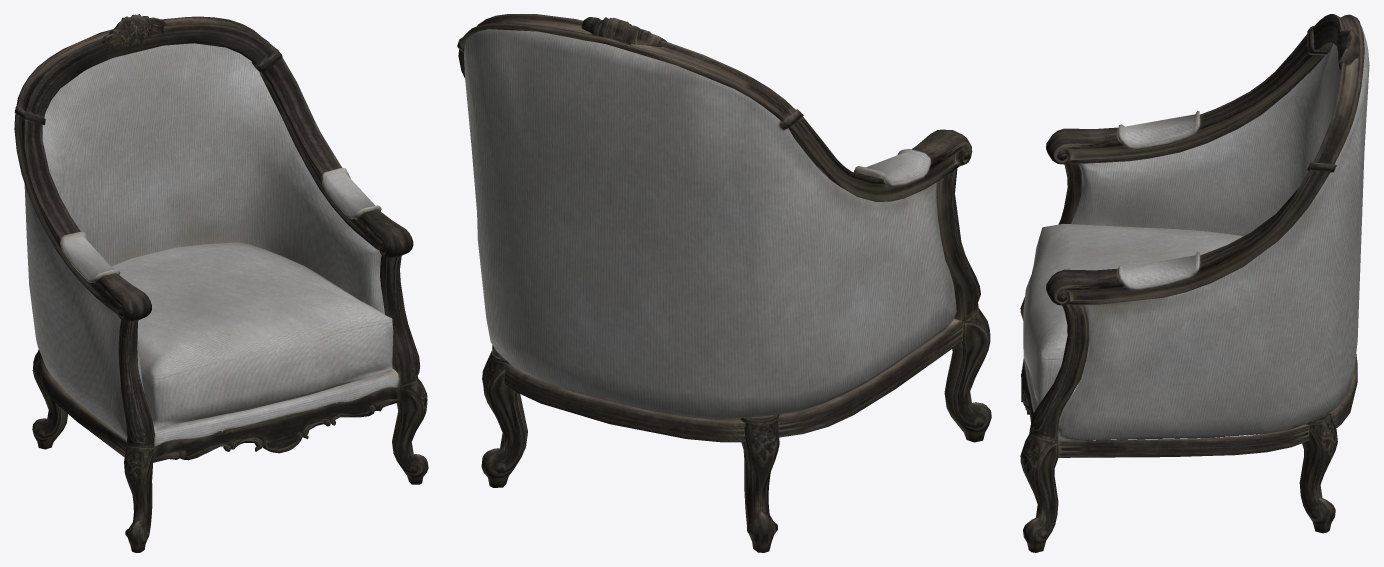
File: ArmChair_01.glb
3 renders of one model, left to right at view 1: azimuth 30°, elevation 25°; view 2: azimuth 150°, elevation 25°; view 3: azimuth 270°, elevation 25°, orthographic. The views are drawn at different scales.
Visible parts, largest first — view 1: ArmChair_01; view 2: ArmChair_01; view 3: ArmChair_01.
Part boxes in pixels (x1,y1,x2,y2): ArmChair_01: (14,14,428,552); ArmChair_01: (457,14,991,552); ArmChair_01: (1020,14,1369,552).
Size of the model in its own units: 0.8483 by 1.06 by 0.7658.
Materials: 1 (1 with a texture image).
